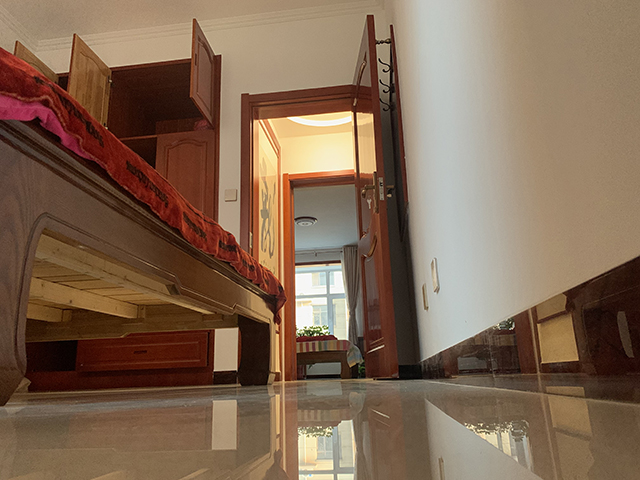bed: (1, 47, 288, 408), (295, 335, 363, 380)
cabinet: (26, 329, 215, 393)
